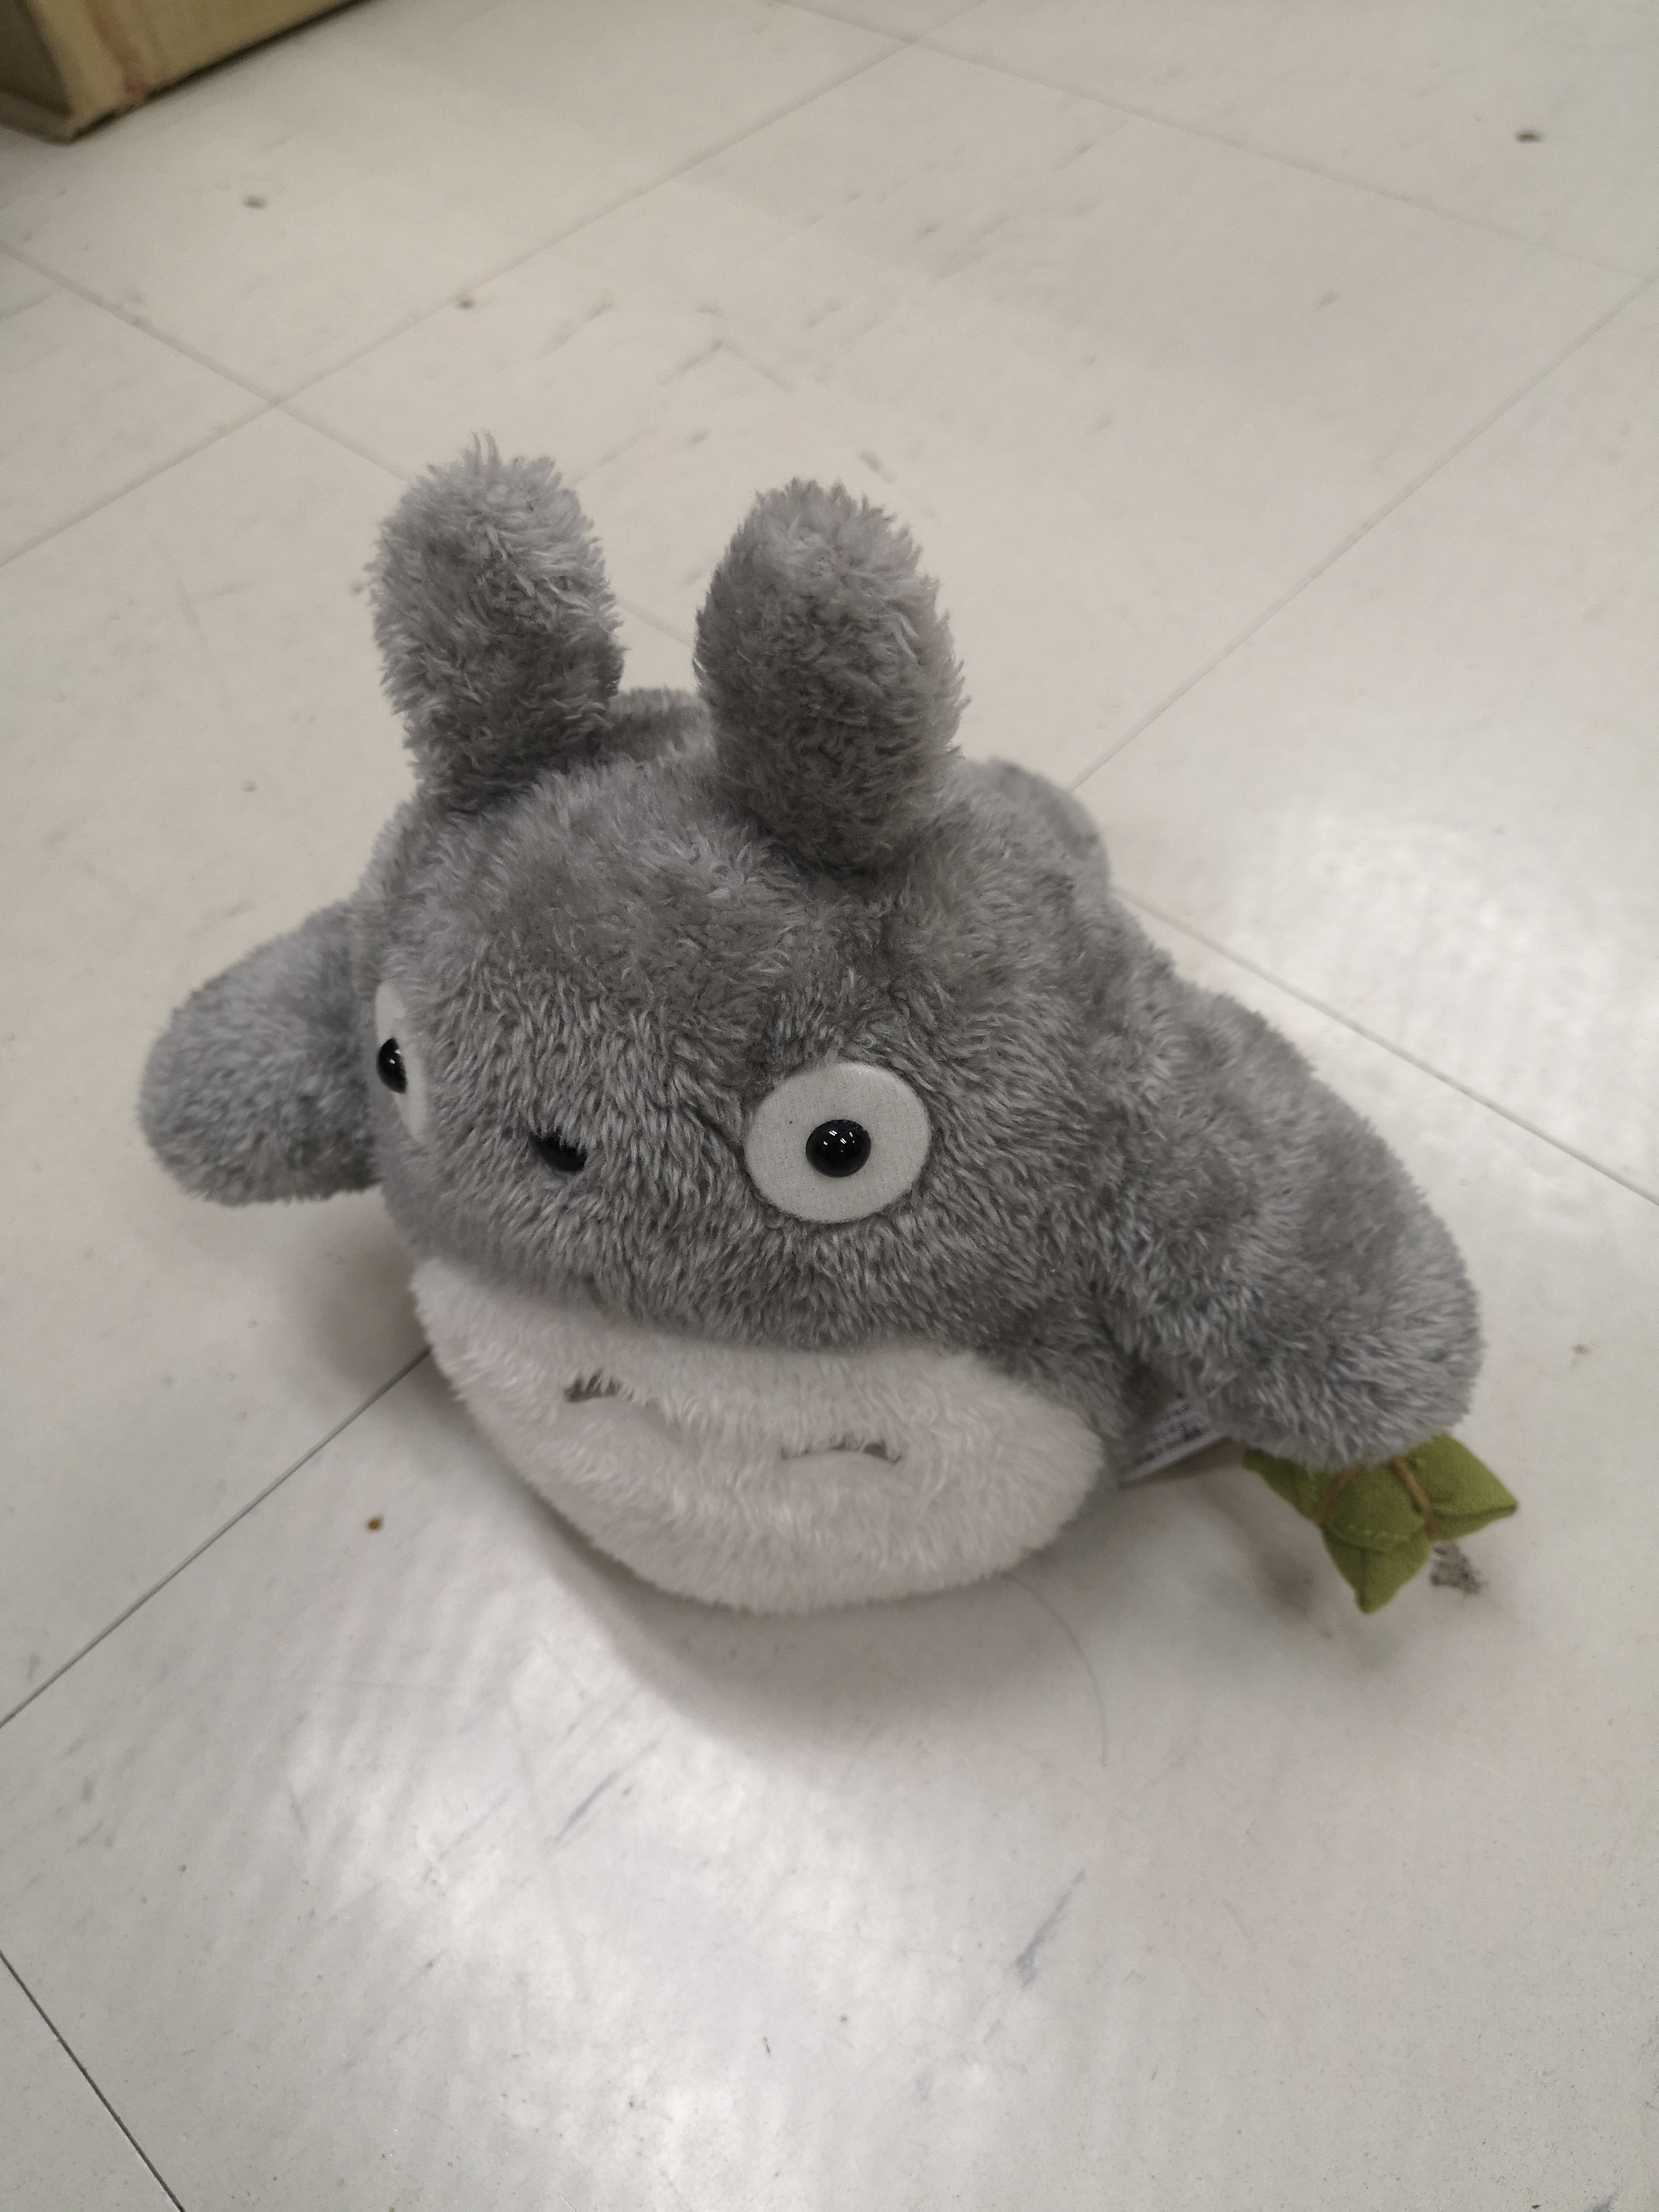totoro: (120, 437, 1523, 1632)
